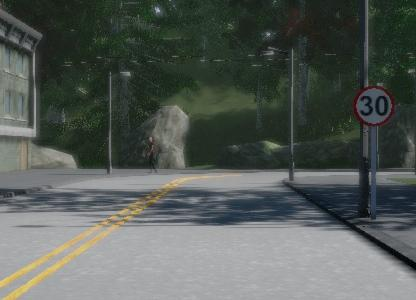Speed_30: (349, 83, 395, 129)
